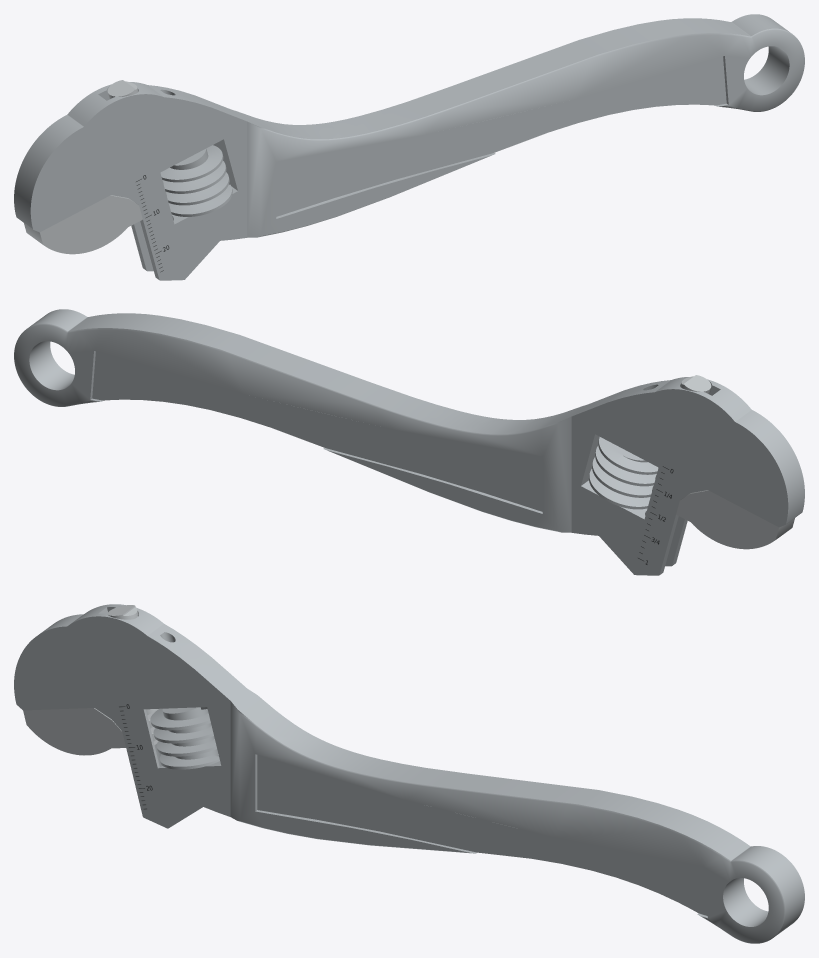
Rendered from crescent_ac28vs_nominal_closed.glb.
The picture shows the model from 3 angles, top to bottom: view 1: azimuth 30°, elevation 25°; view 2: azimuth 150°, elevation 25°; view 3: azimuth 330°, elevation 25°; orthographic projection.
Parts seen in each view (by area): view 1: forged_body_and_fixed_jaw, sliding_jaw_and_rack, helical_adjustment_worm; view 2: forged_body_and_fixed_jaw, sliding_jaw_and_rack, helical_adjustment_worm; view 3: forged_body_and_fixed_jaw, sliding_jaw_and_rack, helical_adjustment_worm.
Boxes of the visible parts, box(x1,y1,x2,y2) form: forged_body_and_fixed_jaw: box(14, 14, 804, 280); sliding_jaw_and_rack: box(24, 80, 166, 254); helical_adjustment_worm: box(160, 145, 232, 216); forged_body_and_fixed_jaw: box(14, 309, 804, 575); sliding_jaw_and_rack: box(652, 375, 794, 549); helical_adjustment_worm: box(588, 437, 658, 509); forged_body_and_fixed_jaw: box(14, 604, 804, 943); sliding_jaw_and_rack: box(23, 605, 158, 755); helical_adjustment_worm: box(150, 707, 219, 769).
Size of the model in its own units: 0.2032 by 0.0505 by 0.0167.
Materials: 6 (2 with a texture image).
